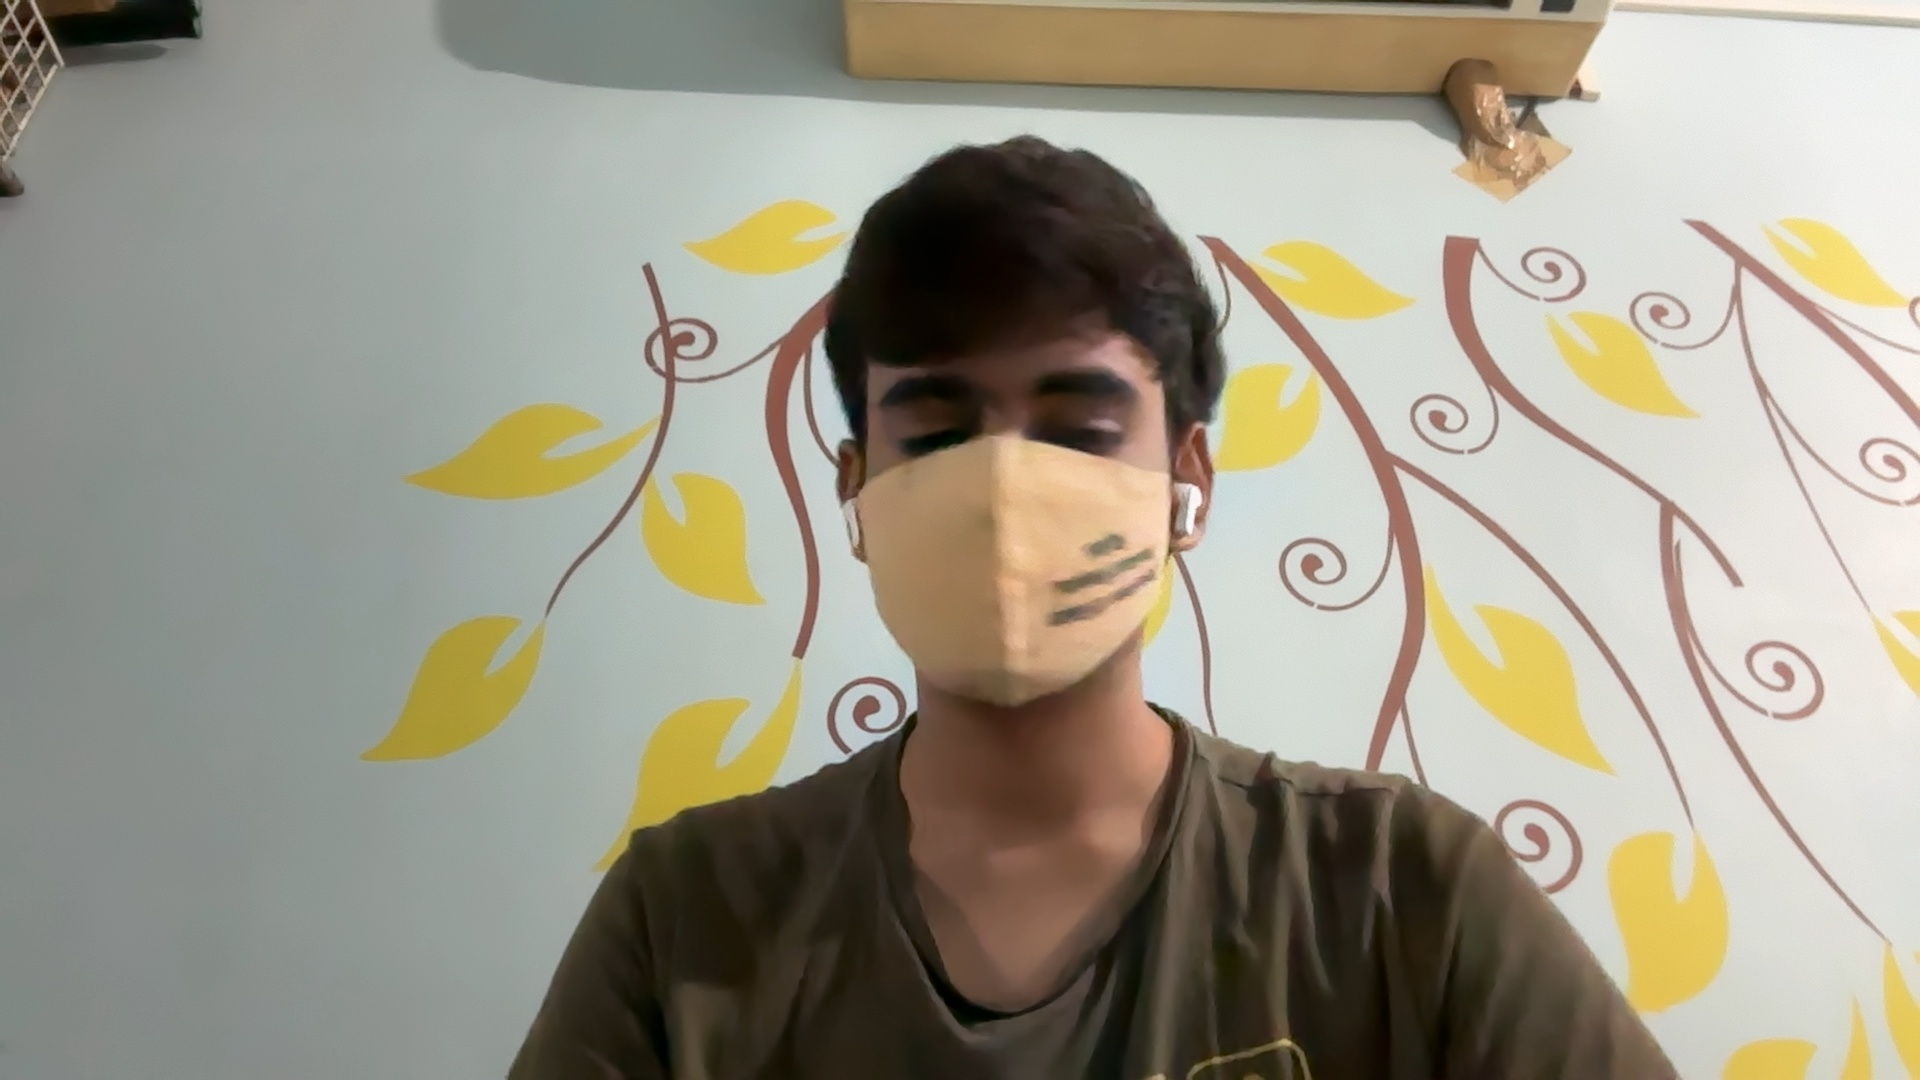Mask: (848, 444, 1184, 727)
